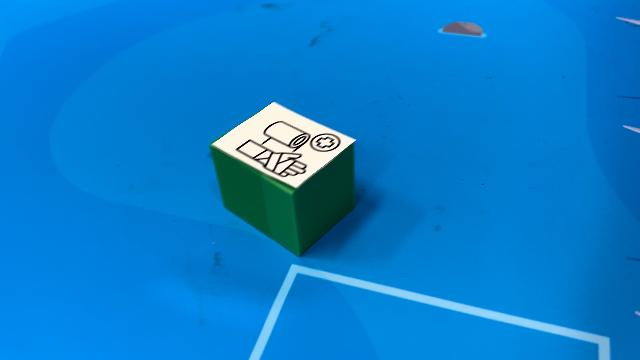bandage: (209, 100, 357, 256)
